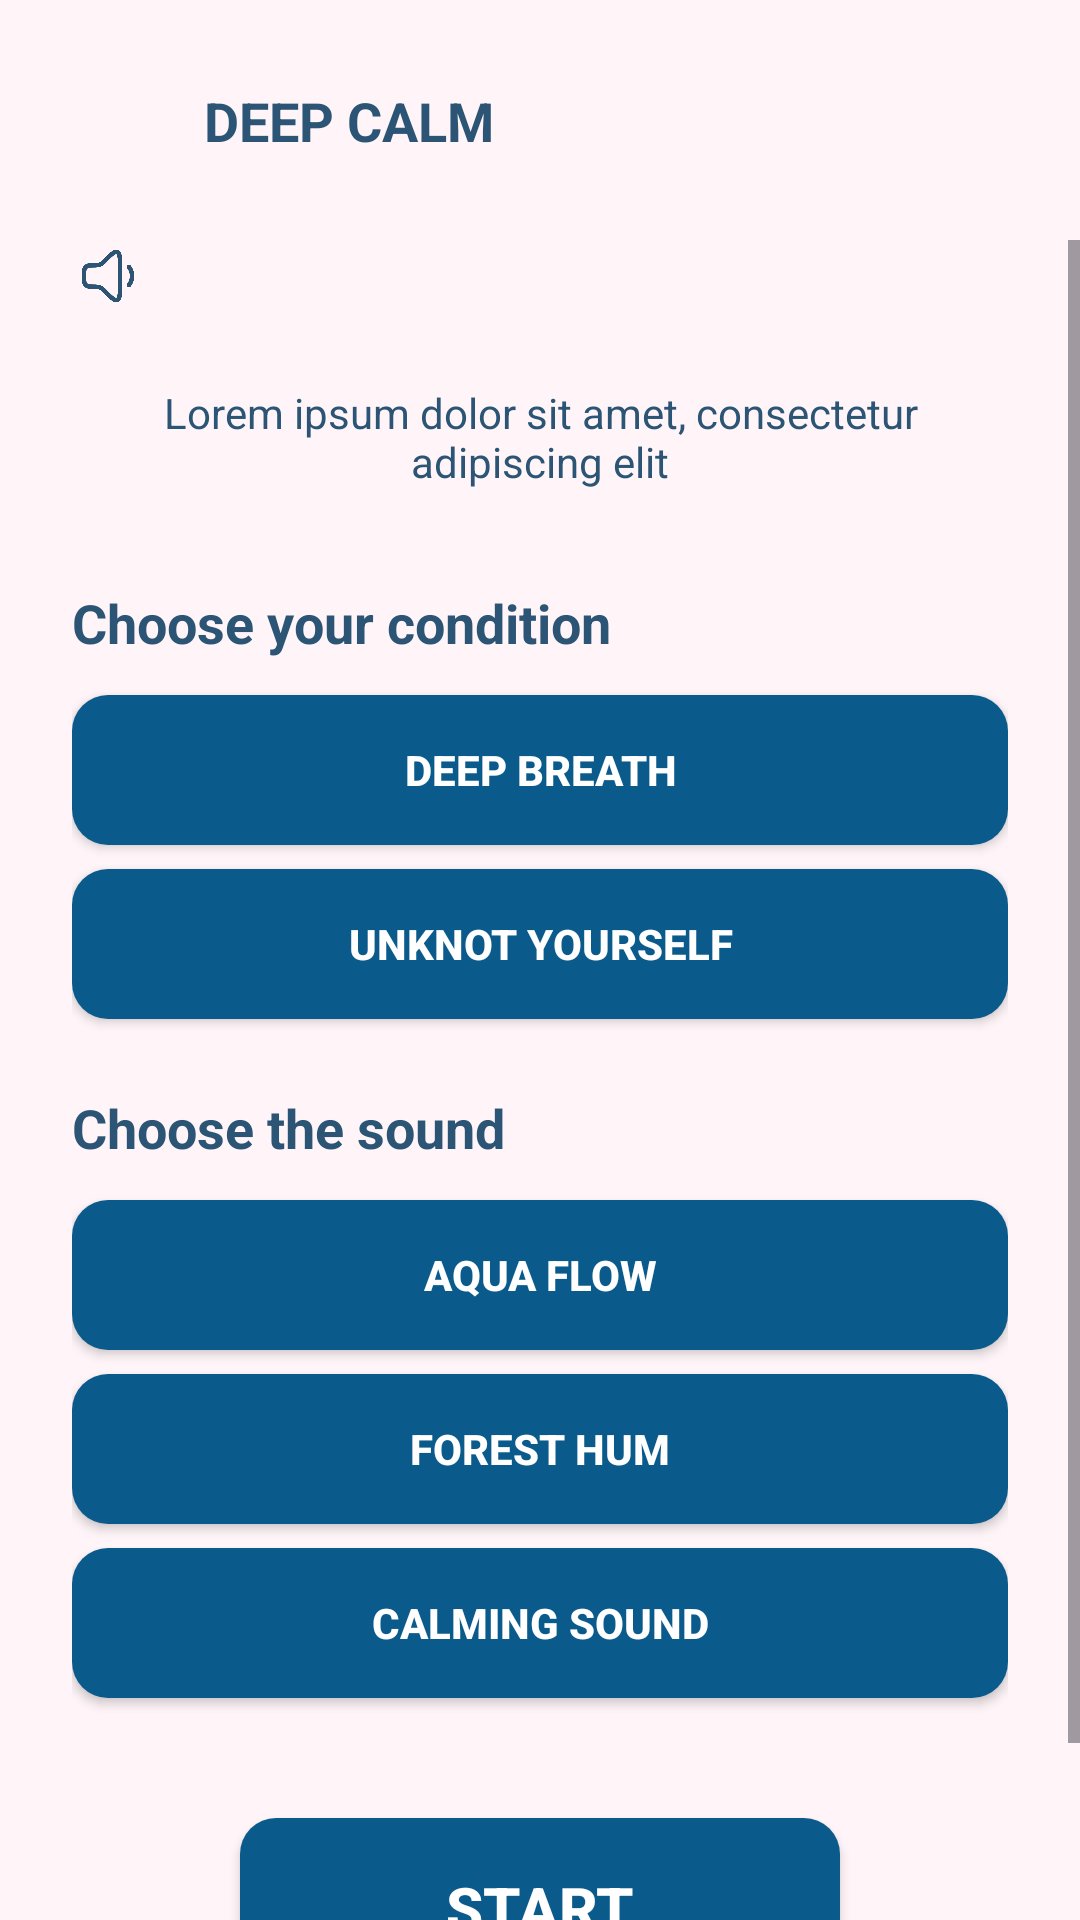

Named icons in this screenshot (1080x1920) and their bounding boxes, (x1, y1, x2, y2):
low: (82, 250, 134, 302)
